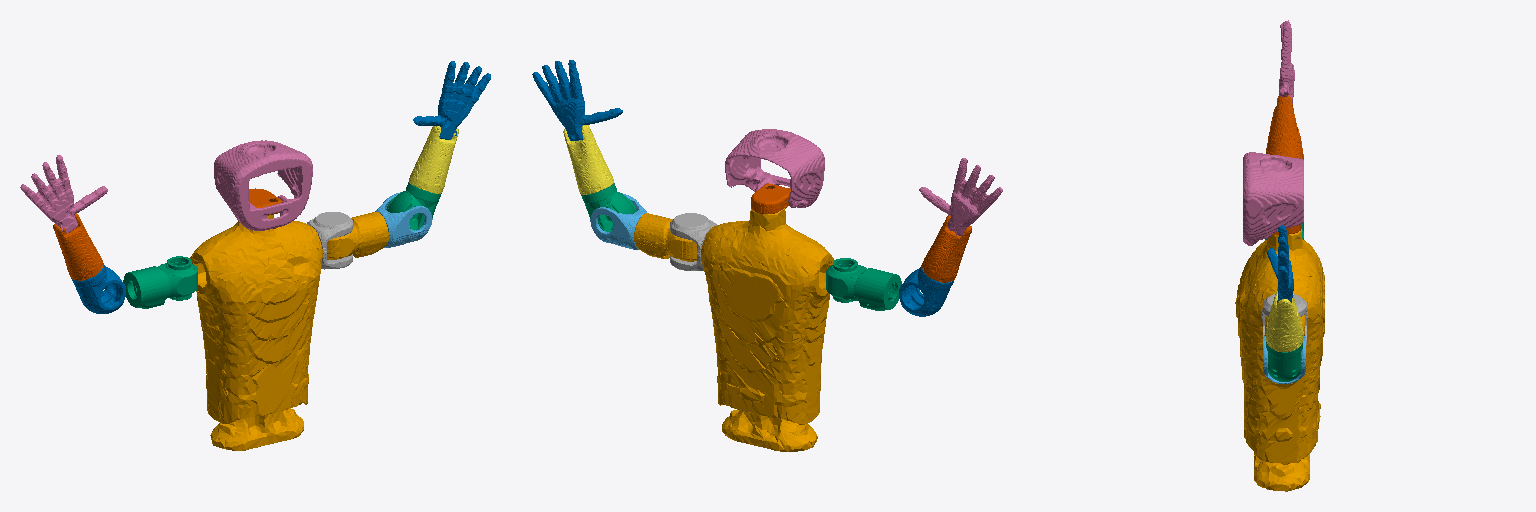
The robot description file, URDF, robot "pib_planning":
<?xml version='1.0' encoding='utf-8'?>
<robot name="pib_planning">
  <link name="root">
    <inertial>
      <origin xyz="0 0 0" rpy="0 0 0" />
      <mass value="1.0" />
      <inertia ixx="0.001" ixy="0" ixz="0" iyy="0.001" iyz="0" izz="0.001" />
    </inertial>
    <visual>
      <geometry>
        <mesh filename="meshes/root.obj" />
      </geometry>
    </visual>
  </link>
  <link name="c64_motor_axis_cap_inner_shoulder">
    <inertial>
      <origin xyz="0 0 0" rpy="0 0 0" />
      <mass value="1.0" />
      <inertia ixx="0.001" ixy="0" ixz="0" iyy="0.001" iyz="0" izz="0.001" />
    </inertial>
    <visual>
      <geometry>
        <mesh filename="meshes/c64_motor_axis_cap_inner_shoulder.obj" />
      </geometry>
    </visual>
  </link>
  <link name="c69_inner_part_outer_shoulder">
    <inertial>
      <origin xyz="0 0 0" rpy="0 0 0" />
      <mass value="1.0" />
      <inertia ixx="0.001" ixy="0" ixz="0" iyy="0.001" iyz="0" izz="0.001" />
    </inertial>
    <visual>
      <geometry>
        <mesh filename="meshes/c69_inner_part_outer_shoulder.obj" />
      </geometry>
    </visual>
  </link>
  <link name="c09_central_rotator_connector_1">
    <inertial>
      <origin xyz="0 0 0" rpy="0 0 0" />
      <mass value="1.0" />
      <inertia ixx="0.001" ixy="0" ixz="0" iyy="0.001" iyz="0" izz="0.001" />
    </inertial>
    <visual>
      <geometry>
        <mesh filename="meshes/c09_central_rotator_connector_1.obj" />
      </geometry>
    </visual>
  </link>
  <link name="c36_elbow_lower_shell">
    <inertial>
      <origin xyz="0 0 0" rpy="0 0 0" />
      <mass value="1.0" />
      <inertia ixx="0.001" ixy="0" ixz="0" iyy="0.001" iyz="0" izz="0.001" />
    </inertial>
    <visual>
      <geometry>
        <mesh filename="meshes/c36_elbow_lower_shell.obj" />
      </geometry>
    </visual>
  </link>
  <link name="c09_central_rotator_connector">
    <inertial>
      <origin xyz="0 0 0" rpy="0 0 0" />
      <mass value="1.0" />
      <inertia ixx="0.001" ixy="0" ixz="0" iyy="0.001" iyz="0" izz="0.001" />
    </inertial>
    <visual>
      <geometry>
        <mesh filename="meshes/c09_central_rotator_connector.obj" />
      </geometry>
    </visual>
  </link>
  <link name="d01_r_palm_right">
    <inertial>
      <origin xyz="0 0 0" rpy="0 0 0" />
      <mass value="1.0" />
      <inertia ixx="0.001" ixy="0" ixz="0" iyy="0.001" iyz="0" izz="0.001" />
    </inertial>
    <visual>
      <geometry>
        <mesh filename="meshes/d01_r_palm_right.obj" />
      </geometry>
    </visual>
  </link>
  <link name="c64_motor_axis_cap_inner_shoulder_1">
    <inertial>
      <origin xyz="0 0 0" rpy="0 0 0" />
      <mass value="1.0" />
      <inertia ixx="0.001" ixy="0" ixz="0" iyy="0.001" iyz="0" izz="0.001" />
    </inertial>
    <visual>
      <geometry>
        <mesh filename="meshes/c64_motor_axis_cap_inner_shoulder_1.obj" />
      </geometry>
    </visual>
  </link>
  <link name="c69_inner_part_outer_shoulder_1">
    <inertial>
      <origin xyz="0 0 0" rpy="0 0 0" />
      <mass value="1.0" />
      <inertia ixx="0.001" ixy="0" ixz="0" iyy="0.001" iyz="0" izz="0.001" />
    </inertial>
    <visual>
      <geometry>
        <mesh filename="meshes/c69_inner_part_outer_shoulder_1.obj" />
      </geometry>
    </visual>
  </link>
  <link name="c09_central_rotator_connector_2">
    <inertial>
      <origin xyz="0 0 0" rpy="0 0 0" />
      <mass value="1.0" />
      <inertia ixx="0.001" ixy="0" ixz="0" iyy="0.001" iyz="0" izz="0.001" />
    </inertial>
    <visual>
      <geometry>
        <mesh filename="meshes/c09_central_rotator_connector_2.obj" />
      </geometry>
    </visual>
  </link>
  <link name="c36_elbow_lower_shell_1">
    <inertial>
      <origin xyz="0 0 0" rpy="0 0 0" />
      <mass value="1.0" />
      <inertia ixx="0.001" ixy="0" ixz="0" iyy="0.001" iyz="0" izz="0.001" />
    </inertial>
    <visual>
      <geometry>
        <mesh filename="meshes/c36_elbow_lower_shell_1.obj" />
      </geometry>
    </visual>
  </link>
  <link name="c09_central_rotator_connector_3">
    <inertial>
      <origin xyz="0 0 0" rpy="0 0 0" />
      <mass value="1.0" />
      <inertia ixx="0.001" ixy="0" ixz="0" iyy="0.001" iyz="0" izz="0.001" />
    </inertial>
    <visual>
      <geometry>
        <mesh filename="meshes/c09_central_rotator_connector_3.obj" />
      </geometry>
    </visual>
  </link>
  <link name="d01_l_palm_left">
    <inertial>
      <origin xyz="0 0 0" rpy="0 0 0" />
      <mass value="1.0" />
      <inertia ixx="0.001" ixy="0" ixz="0" iyy="0.001" iyz="0" izz="0.001" />
    </inertial>
    <visual>
      <geometry>
        <mesh filename="meshes/d01_l_palm_left.obj" />
      </geometry>
    </visual>
  </link>
  <link name="a71_inner_part">
    <inertial>
      <origin xyz="0 0 0" rpy="0 0 0" />
      <mass value="1.0" />
      <inertia ixx="0.001" ixy="0" ixz="0" iyy="0.001" iyz="0" izz="0.001" />
    </inertial>
    <visual>
      <geometry>
        <mesh filename="meshes/a71_inner_part.obj" />
      </geometry>
    </visual>
  </link>
  <link name="a81_motor_shaft">
    <inertial>
      <origin xyz="0 0 0" rpy="0 0 0" />
      <mass value="1.0" />
      <inertia ixx="0.001" ixy="0" ixz="0" iyy="0.001" iyz="0" izz="0.001" />
    </inertial>
    <visual>
      <geometry>
        <mesh filename="meshes/a81_motor_shaft.obj" />
      </geometry>
    </visual>
  </link>
  <joint name="central_rotator_rotation" type="revolute">
    <origin xyz="-0.0002 0.0371999932 -0.125" rpy="1.5708 -1.00704451e-16 -1.60812398e-16" />
    <parent link="c69_inner_part_outer_shoulder" />
    <child link="c09_central_rotator_connector_1" />
    <axis xyz="0 1 0" />
    <limit effort="1" velocity="1" lower="-1.5708" upper="1.5708" />
  </joint>
  <joint name="central_rotator_rotation_1" type="revolute">
    <origin xyz="-0.0002 0.0371999932 -0.125" rpy="1.5708 -8.9234209e-14 1.69880336e-14" />
    <parent link="c69_inner_part_outer_shoulder_1" />
    <child link="c09_central_rotator_connector_2" />
    <axis xyz="0 1 0" />
    <limit effort="1" velocity="1" lower="-1.5708" upper="1.5708" />
  </joint>
  <joint name="gearing_rotation__new_body_" type="revolute">
    <origin xyz="-0.074 0.106 -0.1421" rpy="6.12323e-17 6.12323e-17 1.09362e-16" />
    <parent link="root" />
    <child link="a71_inner_part" />
    <axis xyz="-0 -0 -1" />
    <limit effort="1" velocity="1" lower="-1.5708" upper="1.5708" />
  </joint>
  <joint name="nodding_rotation" type="revolute">
    <origin xyz="-0.0415 -0.048 0.026" rpy="-2.25926e-15 5.61727e-19 -1.21612e-16" />
    <parent link="a71_inner_part" />
    <child link="a81_motor_shaft" />
    <axis xyz="1 -0 -0" />
    <limit effort="1" velocity="1" lower="-0.785398" upper="0.785398" />
  </joint>
  <joint name="rotate_forearm" type="revolute">
    <origin xyz="-0.033 0.021 -0.067" rpy="1.5708 2.23136485e-16 2.25736312e-15" />
    <parent link="c36_elbow_lower_shell" />
    <child link="c09_central_rotator_connector" />
    <axis xyz="0 1 0" />
    <limit effort="1" velocity="1" lower="-1.5708" upper="1.5708" />
  </joint>
  <joint name="rotate_forearm_1" type="revolute">
    <origin xyz="0.033 0.021 -0.067" rpy="1.5708 1.70444991e-15 -6.34659439e-15" />
    <parent link="c36_elbow_lower_shell_1" />
    <child link="c09_central_rotator_connector_3" />
    <axis xyz="0 1 0" />
    <limit effort="1" velocity="1" lower="-1.5708" upper="1.5708" />
  </joint>
  <joint name="rotation_elbow" type="revolute">
    <origin xyz="0.033 -0.0979999229 0.0210002737" rpy="-2.7489 -1.45535006e-15 2.33552902e-15" />
    <parent link="c09_central_rotator_connector_1" />
    <child link="c36_elbow_lower_shell" />
    <axis xyz="1 0 0" />
    <limit effort="1" velocity="1" lower="-1.1781" upper="1.1781" />
  </joint>
  <joint name="rotation_elbow_1" type="revolute">
    <origin xyz="-0.033 -0.0979999229 0.0210002949" rpy="-2.74889 -1.12322486e-17 7.0419652e-12" />
    <parent link="c09_central_rotator_connector_2" />
    <child link="c36_elbow_lower_shell_1" />
    <axis xyz="-1 -0 -0" />
    <limit effort="1" velocity="1" lower="-1.1781" upper="1.1781" />
  </joint>
  <joint name="rotation_inner_shoulder" type="revolute">
    <origin xyz="0.087 0.106 -0.2836" rpy="3.14159 7.65526678e-19 5.6405998e-17" />
    <parent link="root" />
    <child link="c64_motor_axis_cap_inner_shoulder_1" />
    <axis xyz="-1 0 0" />
    <limit effort="1" velocity="1" lower="-3.141592653589793" upper="3.141592653589793" />
  </joint>
  <joint name="rotation_inner_shoulder_1" type="revolute">
    <origin xyz="-0.235 0.106000177 -0.2836" rpy="3.14159 8.60300059e-17 3.14159" />
    <parent link="root" />
    <child link="c64_motor_axis_cap_inner_shoulder" />
    <axis xyz="-1 0 0" />
    <limit effort="1" velocity="1" lower="-3.141592653589793" upper="3.141592653589793" />
  </joint>
  <joint name="rotation_shoulder_left" type="revolute">
    <origin xyz="0.0649 1.3664323e-07 -0.0372" rpy="1.57079633 3.6732051e-06 -1.5708" />
    <parent link="c64_motor_axis_cap_inner_shoulder" />
    <child link="c69_inner_part_outer_shoulder" />
    <axis xyz="0 -1 0" />
    <limit effort="1" velocity="1" lower="-1.5708" upper="1.5708" />
  </joint>
  <joint name="rotation_shoulder_left_1" type="revolute">
    <origin xyz="0.0649 1.36643228e-07 -0.0372" rpy="1.57079633 3.6732051e-06 -1.5708" />
    <parent link="c64_motor_axis_cap_inner_shoulder_1" />
    <child link="c69_inner_part_outer_shoulder_1" />
    <axis xyz="0 -1 0" />
    <limit effort="1" velocity="1" lower="-1.5708" upper="1.5708" />
  </joint>
  <joint name="rotation_wrist" type="revolute">
    <origin xyz="-9.55033327e-08 -0.1704 -0.026" rpy="-1.57079265 1.57079265 -3.14159265" />
    <parent link="c09_central_rotator_connector_3" />
    <child link="d01_l_palm_left" />
    <axis xyz="1 0 0" />
    <limit effort="1" velocity="1" lower="-3.141592653589793" upper="3.141592653589793" />
  </joint>
  <joint name="rotation_wrist_right" type="revolute">
    <origin xyz="-9.55033323e-08 -0.1704 0.026" rpy="-1.57079265 -1.57079265 -3.14159265" />
    <parent link="c09_central_rotator_connector" />
    <child link="d01_r_palm_right" />
    <axis xyz="1 0 0" />
    <limit effort="1" velocity="1" lower="-3.141592653589793" upper="3.141592653589793" />
  </joint>
</robot>

--- What the picture shows (computed from the rendered views, not written in the file) ---
Views: 3 orthographic renders of the robot side by side, from view 1: azimuth 30°, elevation 25°; view 2: azimuth 150°, elevation 25°; view 3: azimuth 270°, elevation 25°.
Robot: pib_planning — 15 links, 14 joints (14 revolute); root link root; default pose: every joint at zero.
Visible links, largest first — view 1: root, a81_motor_shaft, c69_inner_part_outer_shoulder, d01_l_palm_left, d01_r_palm_right, c69_inner_part_outer_shoulder_1, c09_central_rotator_connector_3, c09_central_rotator_connector, c36_elbow_lower_shell, c09_central_rotator_connector_2, c64_motor_axis_cap_inner_shoulder_1, c36_elbow_lower_shell_1; view 2: root, a81_motor_shaft, c69_inner_part_outer_shoulder, d01_l_palm_left, d01_r_palm_right, c69_inner_part_outer_shoulder_1, c09_central_rotator_connector_3, c09_central_rotator_connector, c36_elbow_lower_shell, c09_central_rotator_connector_2, c64_motor_axis_cap_inner_shoulder_1, c36_elbow_lower_shell_1 (+1 smaller); view 3: root, a81_motor_shaft, c09_central_rotator_connector_3, c09_central_rotator_connector, d01_l_palm_left, c36_elbow_lower_shell_1, d01_r_palm_right.
Link boxes in pixels (x1,y1,x2,y2): root: (190,215,322,450); a81_motor_shaft: (214,140,312,230); c69_inner_part_outer_shoulder: (123,256,197,308); d01_l_palm_left: (413,61,490,139); d01_r_palm_right: (20,155,107,232); c69_inner_part_outer_shoulder_1: (327,212,388,259); c09_central_rotator_connector_3: (409,126,458,193); c09_central_rotator_connector: (53,213,102,280); c36_elbow_lower_shell: (71,263,125,313); c09_central_rotator_connector_2: (375,192,432,247); c64_motor_axis_cap_inner_shoulder_1: (307,212,352,269); c36_elbow_lower_shell_1: (386,182,441,230); root: (701,208,833,451); a81_motor_shaft: (725,129,824,207); c69_inner_part_outer_shoulder: (826,258,901,310); d01_l_palm_left: (532,60,622,140); d01_r_palm_right: (919,158,1002,235); c69_inner_part_outer_shoulder_1: (634,213,696,261); c09_central_rotator_connector_3: (563,125,613,194); c09_central_rotator_connector: (922,215,971,282); c36_elbow_lower_shell: (899,265,953,316); c09_central_rotator_connector_2: (590,193,646,249); c64_motor_axis_cap_inner_shoulder_1: (670,213,716,270); c36_elbow_lower_shell_1: (581,183,636,231); root: (1235,229,1324,491); a81_motor_shaft: (1243,152,1303,245); c09_central_rotator_connector_3: (1266,287,1303,351); c09_central_rotator_connector: (1266,95,1303,159); d01_l_palm_left: (1267,225,1293,302); c36_elbow_lower_shell_1: (1266,342,1302,381); d01_r_palm_right: (1278,20,1294,103).
Bounding box of the posed robot: 1.38 × 0.2156 × 0.9216 m (x, y, z).
Meshes: 15 distinct files referenced, 13 mesh visuals loaded (13 OBJ); not drawn: 2 (reference not matched to a file when rendering).
